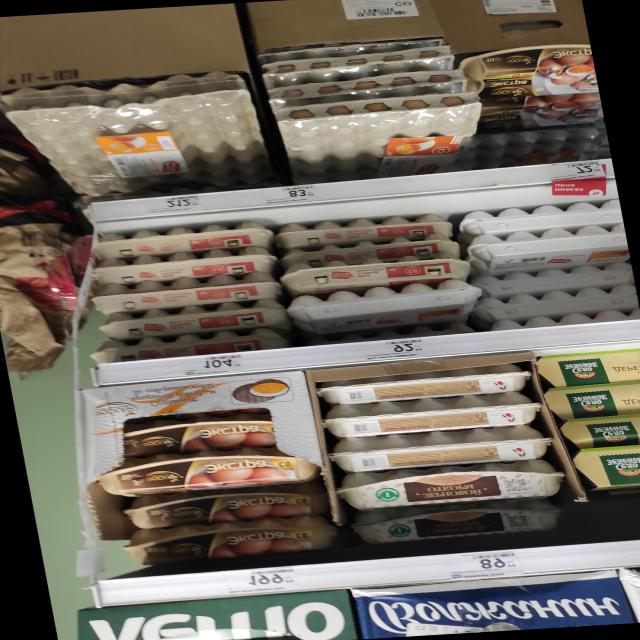organic waste: (337, 459, 568, 512), (95, 445, 324, 498), (118, 515, 339, 568), (345, 498, 566, 548), (120, 484, 331, 530), (464, 224, 631, 274), (278, 253, 472, 295), (99, 300, 291, 342), (459, 44, 599, 100), (93, 272, 282, 313), (86, 328, 292, 365), (87, 221, 275, 259), (91, 247, 279, 285), (276, 234, 464, 271), (117, 412, 275, 455), (272, 212, 456, 248), (468, 92, 605, 134)
